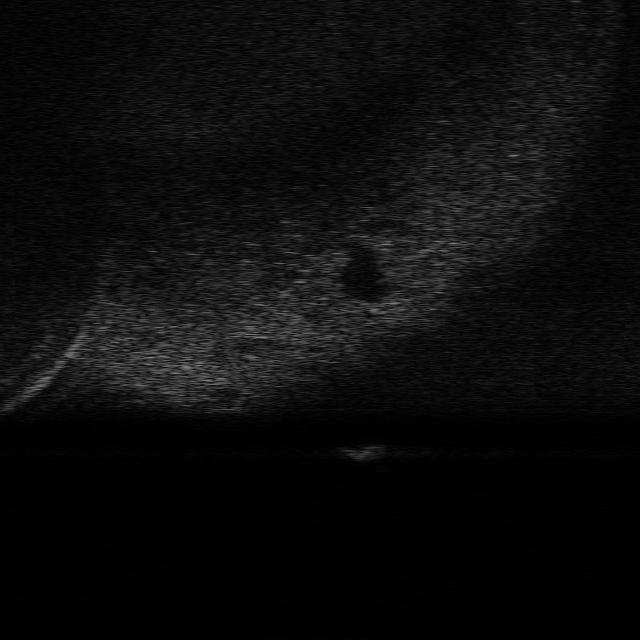cube: (337, 440, 388, 462)
